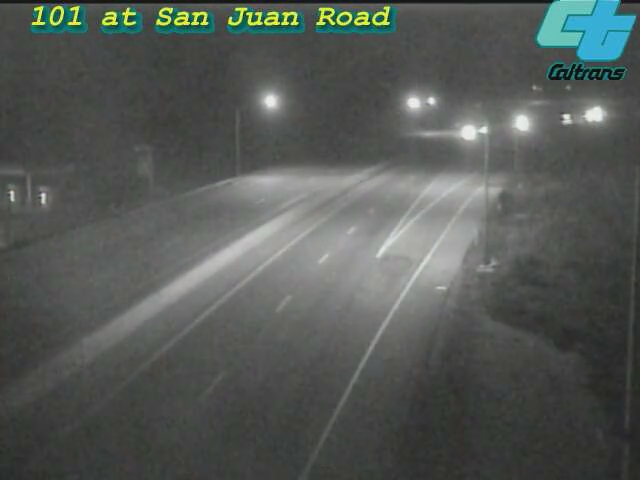vehicle: (542, 94, 592, 144), (442, 107, 492, 157), (496, 99, 546, 149), (455, 105, 505, 155), (564, 90, 614, 140)
